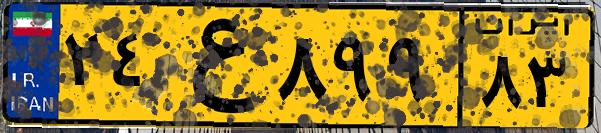2: (57, 26, 110, 100)
3: (525, 38, 570, 115)
4: (110, 28, 158, 98)
8: (270, 28, 330, 110), (475, 38, 525, 113)
9: (385, 28, 445, 110), (330, 28, 385, 110)
ع: (158, 12, 270, 120)
